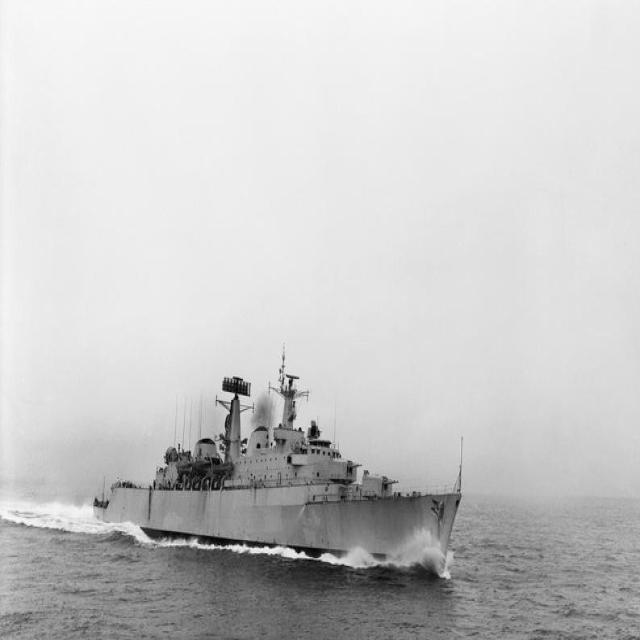navalvessels: (75, 387, 472, 579)
